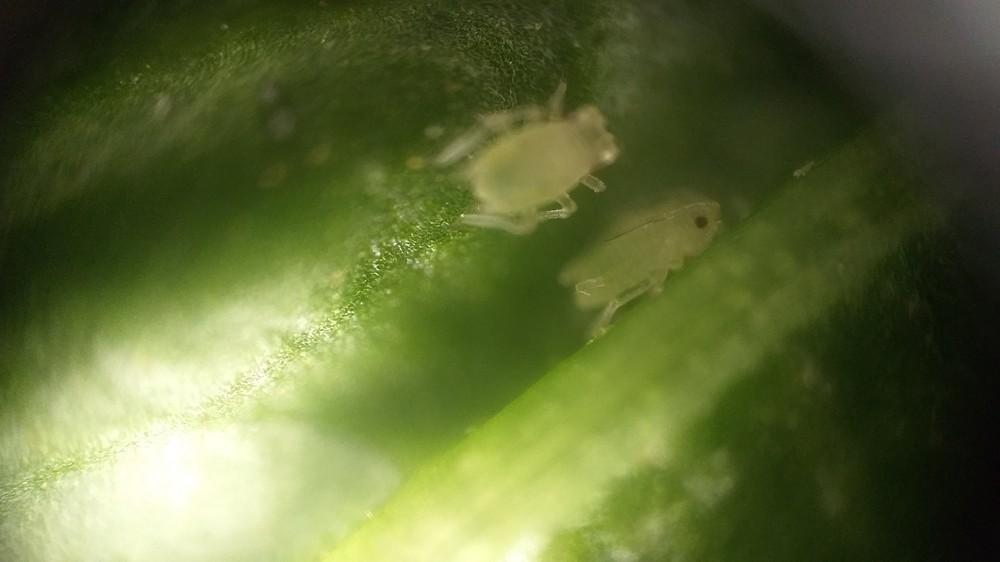Pulgon: (424, 68, 621, 233), (530, 187, 736, 331)
